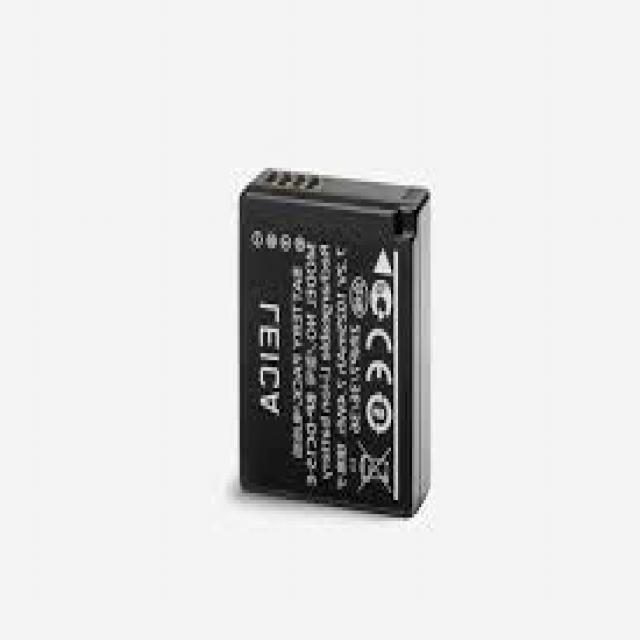battery: (233, 167, 433, 519)
